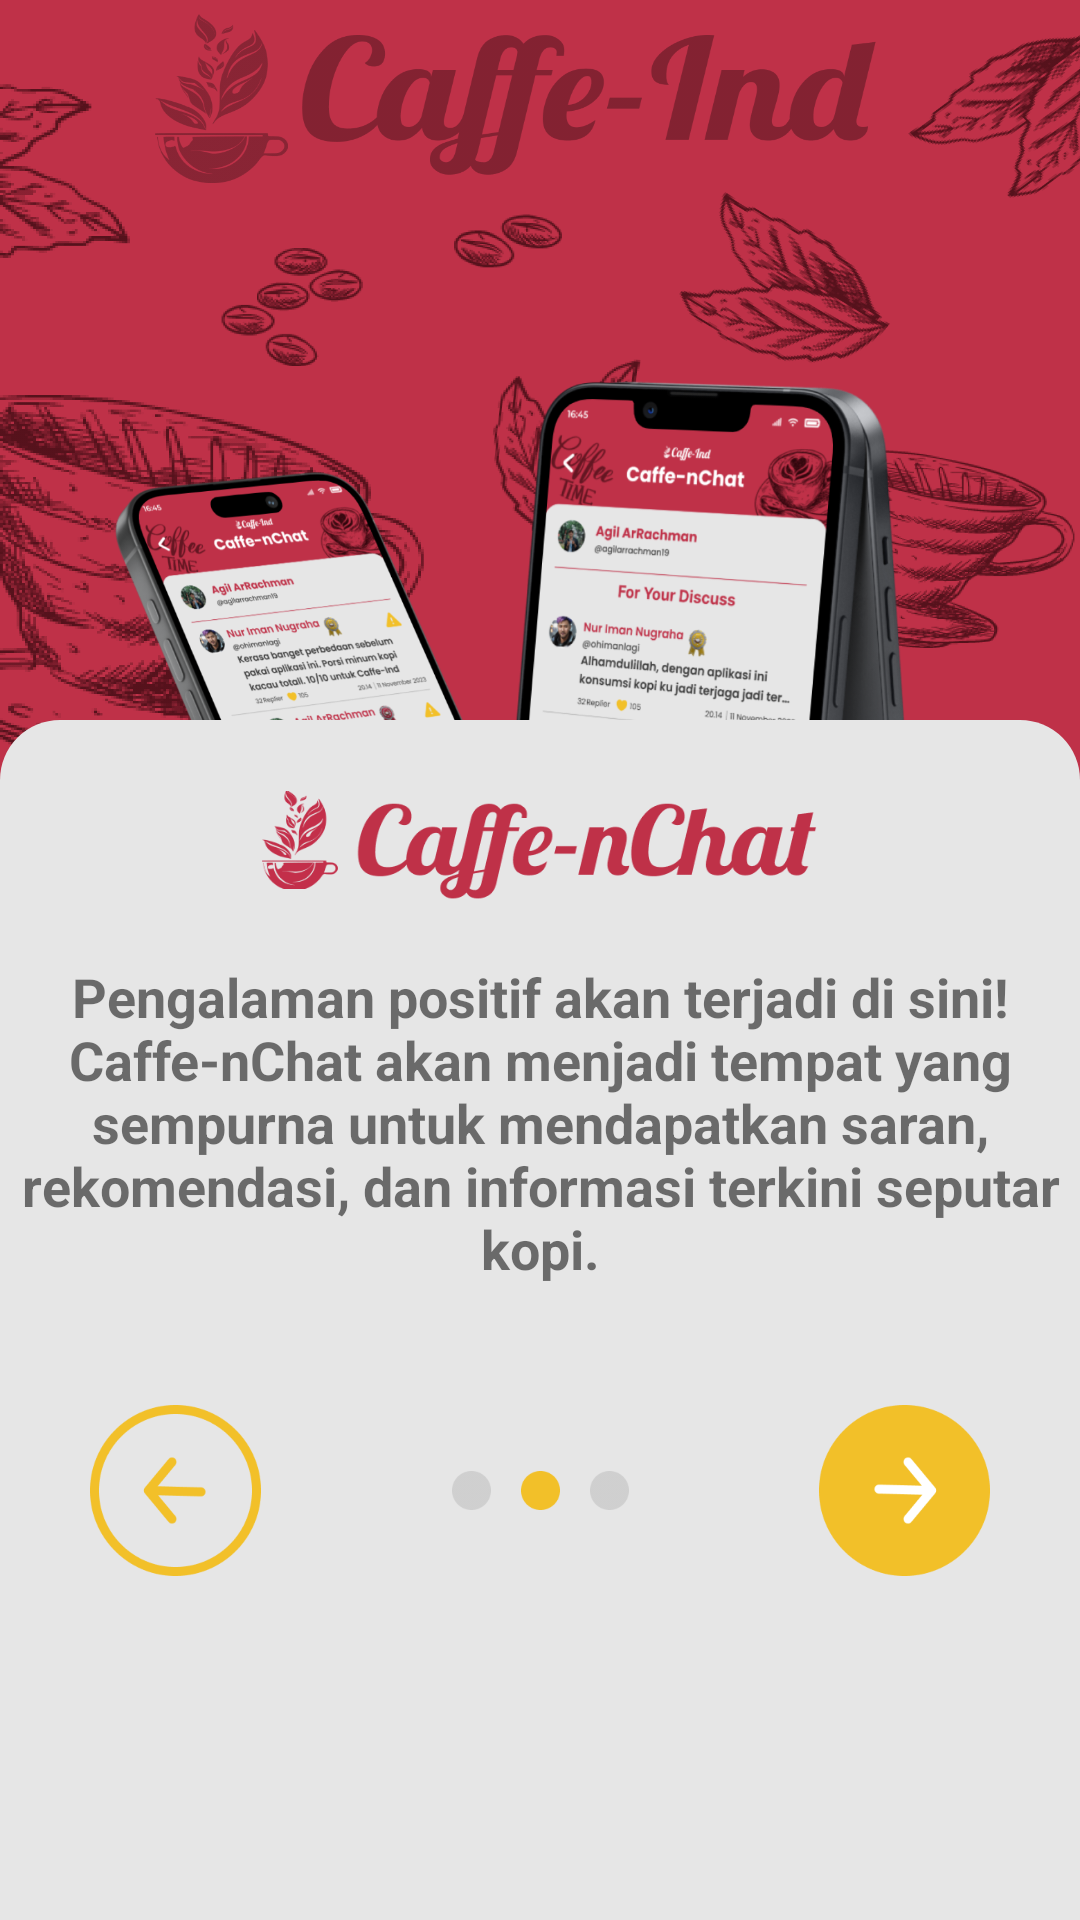

Named icons in this screenshot (1080px x 1920px) and their centers, (x=x, y=y):
btnnextinfo: (x=904, y=1490)
btnprevinfo: (x=175, y=1490)
